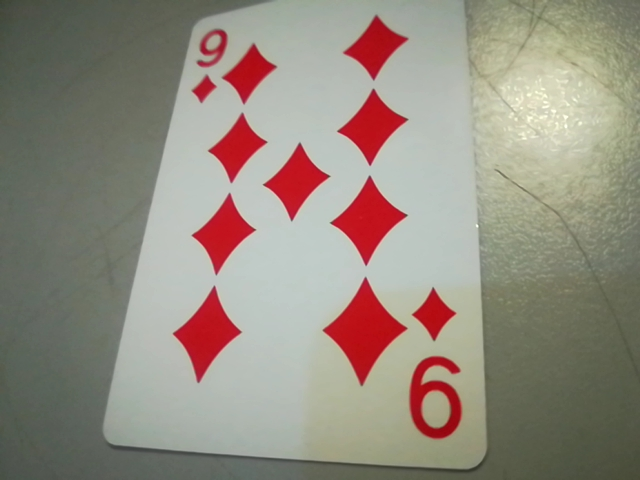fk 9: (400, 276, 477, 454), (177, 22, 236, 109)
